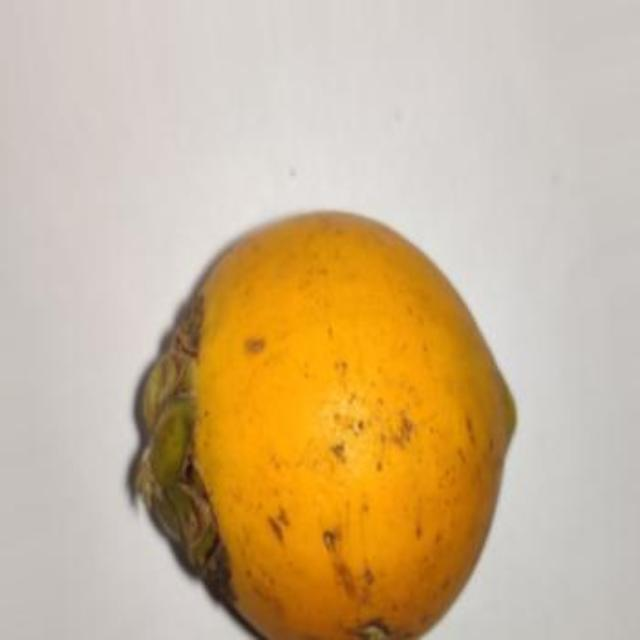good: (132, 212, 517, 638)
